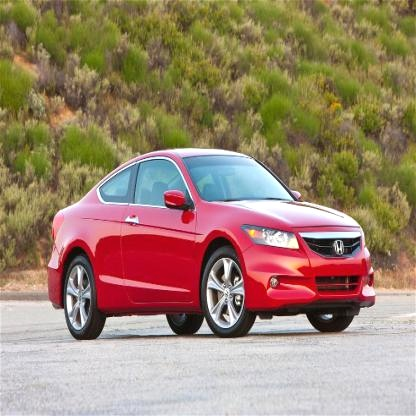Vehicle: (49, 147, 375, 338)
